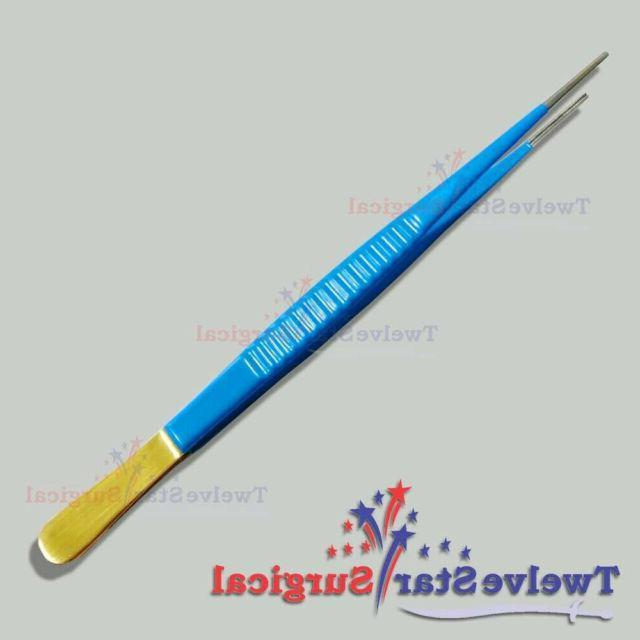Forceps: (29, 46, 609, 580)
